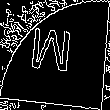M_S: (31, 27, 79, 83)
